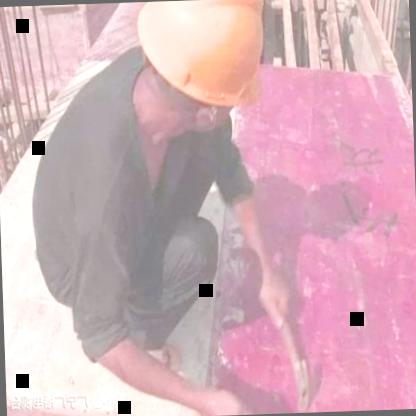helmet: (119, 0, 283, 153)
